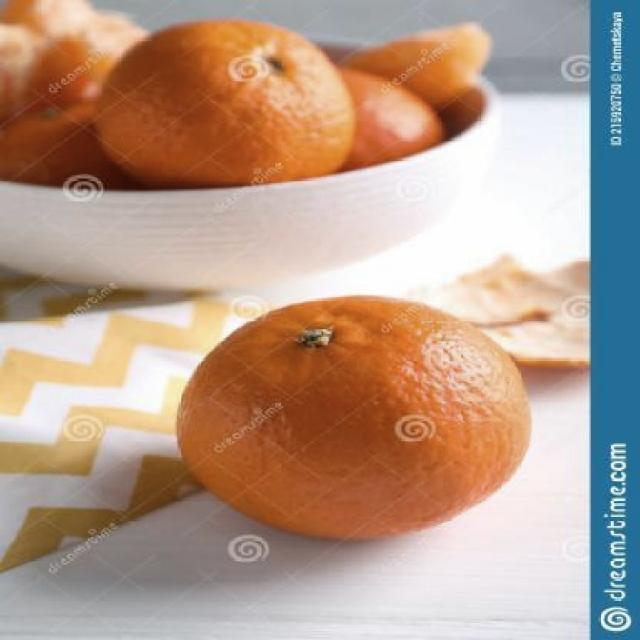Jeruk Sudah Matang: (186, 290, 534, 536), (103, 21, 354, 184)
